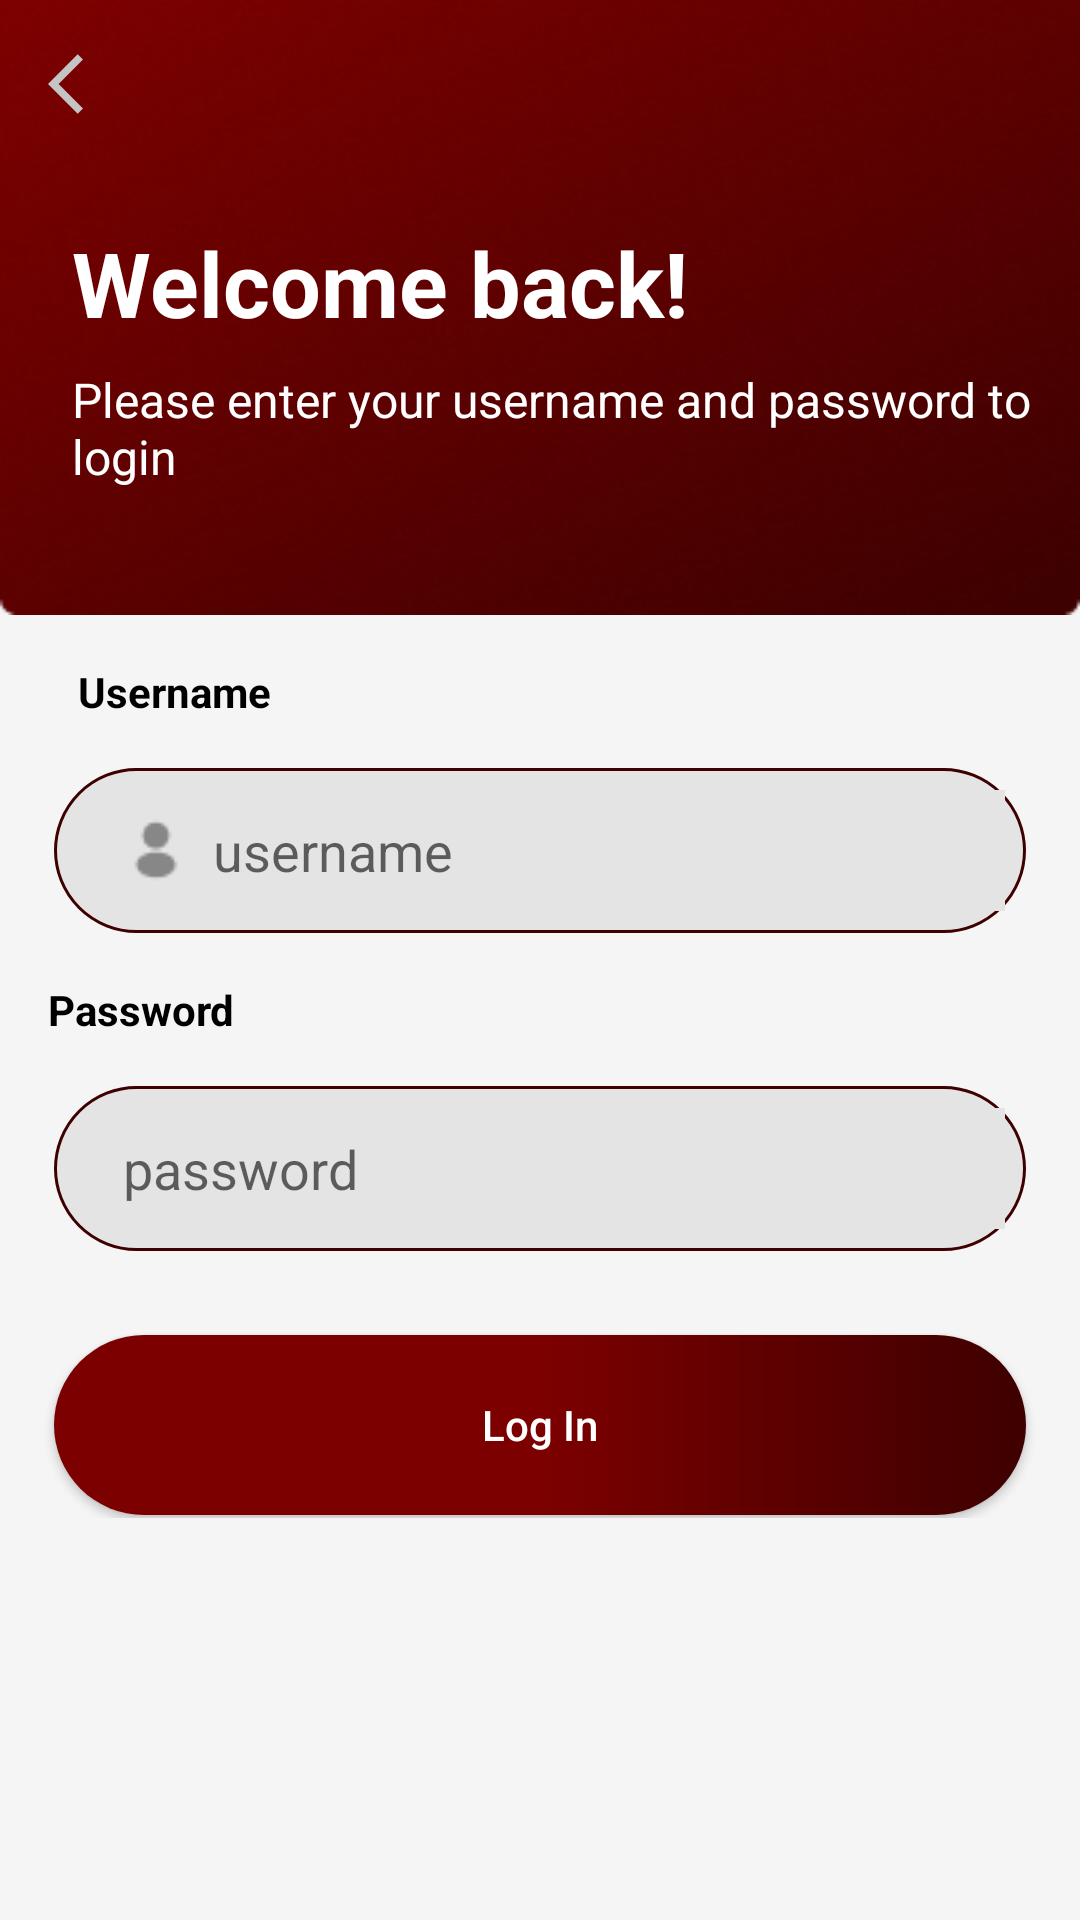

Icons on this 1080 × 1920 Android screen, each with its box as (x1, y1, x2, y2):
arrow back: (48, 54, 83, 114)
